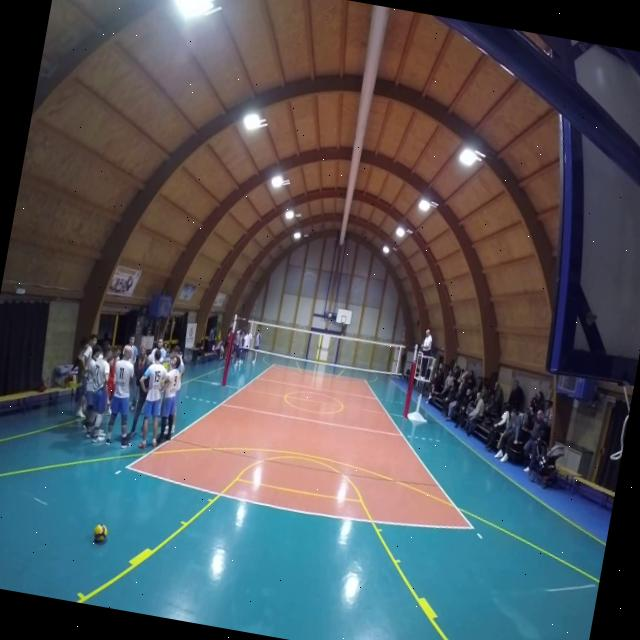Volleyball: (92, 520, 110, 546)
